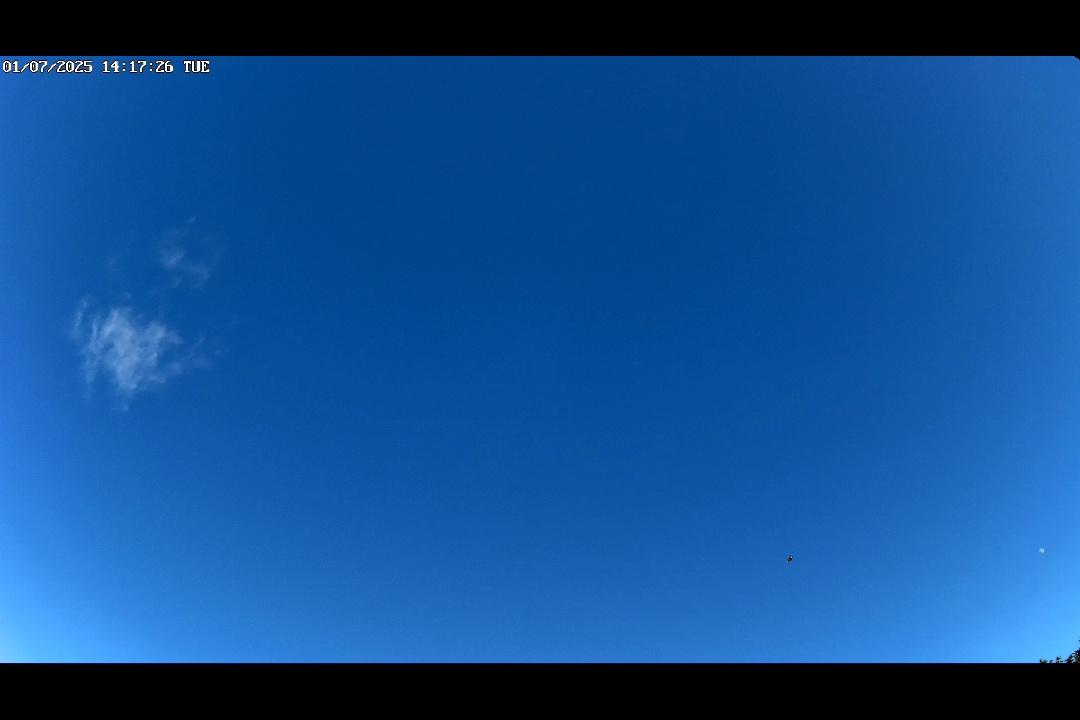WildLife: (783, 550, 800, 567)
